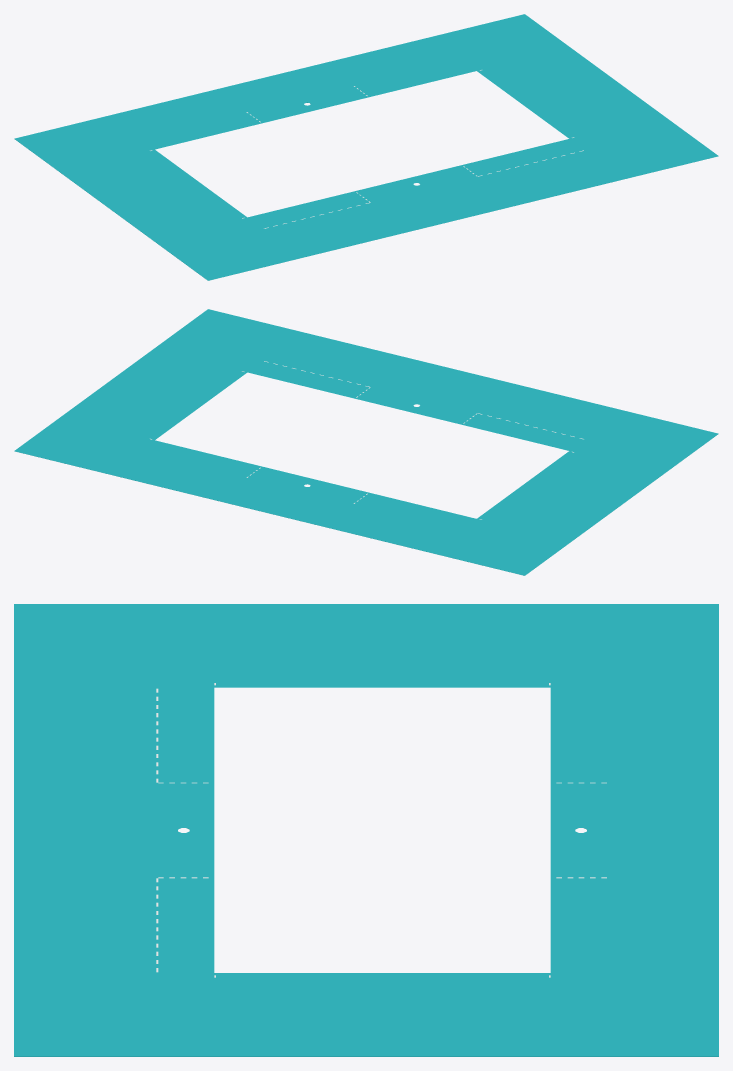
File: court_Outter.fbx
3 views of the same model, one above another, from view 1: azimuth 30°, elevation 25°; view 2: azimuth 150°, elevation 25°; view 3: azimuth 270°, elevation 25° (orthographic). The views are drawn at different scales.
Visible parts, largest first — view 1: court_outer; view 2: court_outer; view 3: court_outer.
Boxes of the visible parts, bbox=[...] form: court_outer: bbox=[14, 14, 718, 280]; court_outer: bbox=[14, 309, 718, 575]; court_outer: bbox=[14, 604, 718, 1056].
Bounding box in the file's own units: 2865 × 0.5006 × 1886.
